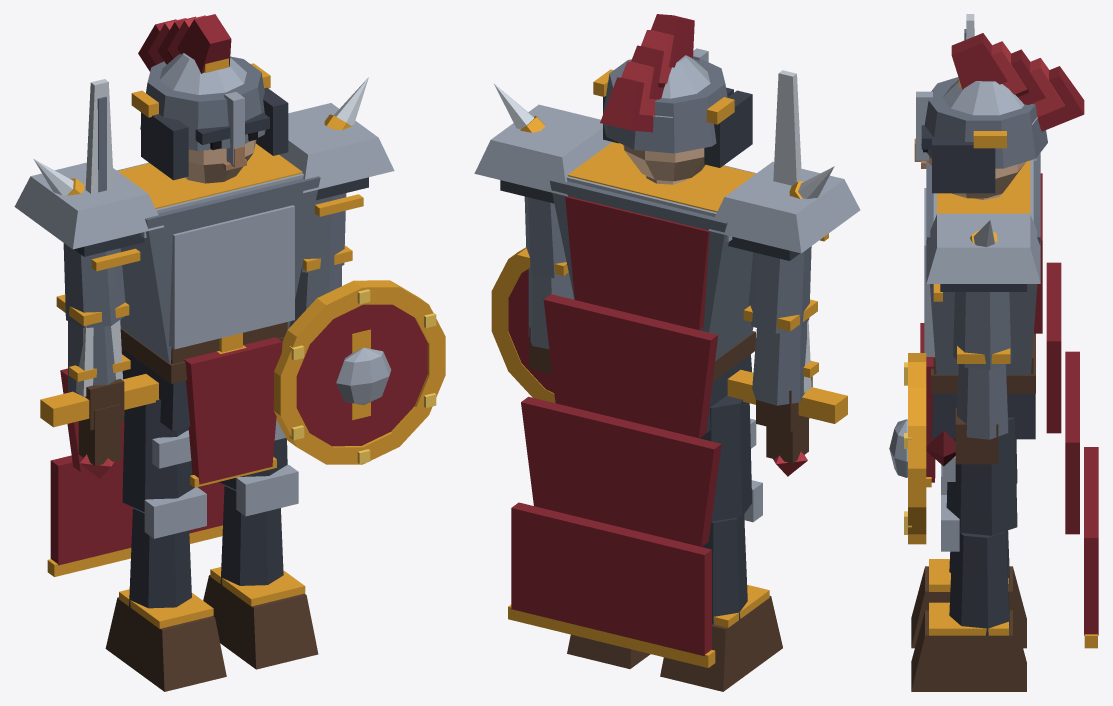
Rendered from warrior.obj.
3 renders of one model, left to right at view 1: azimuth 30°, elevation 25°; view 2: azimuth 150°, elevation 25°; view 3: azimuth 270°, elevation 25°, orthographic. The views are drawn at different scales.
Parts seen in each view (by area): view 1: torso, offhand, leg_r, head, arm_r, leg_l, arm_l, cape, weapon, hips; view 2: cape, arm_r, head, leg_r, torso, arm_l, weapon, offhand, hips, leg_l; view 3: leg_l, head, arm_l, torso, cape, offhand, hips, leg_r.
Boxes of the visible parts, x1,y1,x2,y2 form: torso: (117,143,320,487); offhand: (273,280,445,464); leg_r: (105,399,226,691); head: (131,14,288,183); arm_r: (14,159,163,430); leg_l: (203,419,318,669); arm_l: (279,77,394,327); cape: (47,324,224,576); weapon: (40,79,158,478); hips: (120,326,284,430); cape: (508,196,721,667); arm_r: (708,161,860,432); head: (593,14,752,184); leg_r: (660,395,782,691); torso: (549,142,756,359); arm_l: (474,83,611,373); weapon: (727,70,847,476); offhand: (491,247,555,403); hips: (703,331,755,435); leg_l: (567,634,650,668); leg_l: (911,417,1026,691); head: (914,33,1084,199); arm_l: (926,213,1040,464); torso: (920,154,1040,487); cape: (1033,173,1098,648); offhand: (889,353,955,544); hips: (931,333,1035,439); leg_r: (911,439,1026,648).
Bounding box in the file's own units: 0.6304 × 1.02 × 0.3148.
